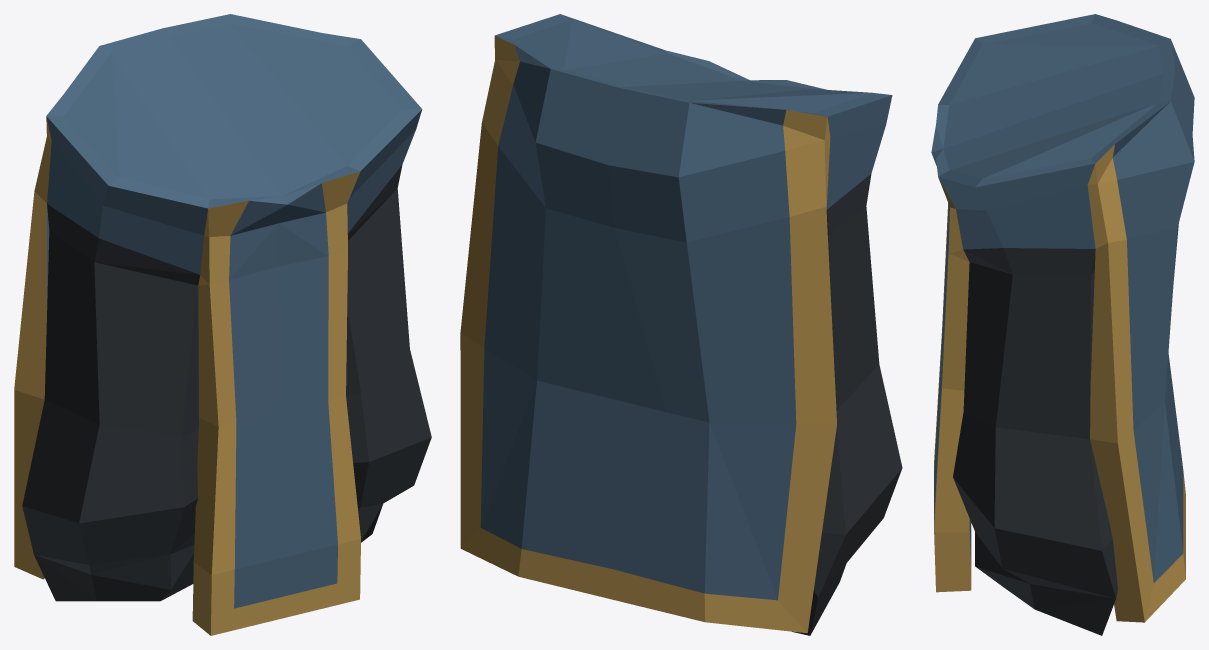
Rendered from Chr_Hips_Female_23_Static.fbx.
3 views of the same model, side by side, from view 1: azimuth 30°, elevation 25°; view 2: azimuth 150°, elevation 25°; view 3: azimuth 270°, elevation 25° (orthographic). The views are drawn at different scales.
Visible parts, largest first — view 1: Chr_Hips_Female_23_Static; view 2: Chr_Hips_Female_23_Static; view 3: Chr_Hips_Female_23_Static.
Boxes of the visible parts, box(x1,y1,x2,y2) form: Chr_Hips_Female_23_Static: box(14, 14, 431, 635); Chr_Hips_Female_23_Static: box(460, 14, 902, 635); Chr_Hips_Female_23_Static: box(931, 14, 1194, 635).
Size of the model in its own units: 0.4226 by 0.5806 by 0.2777.
